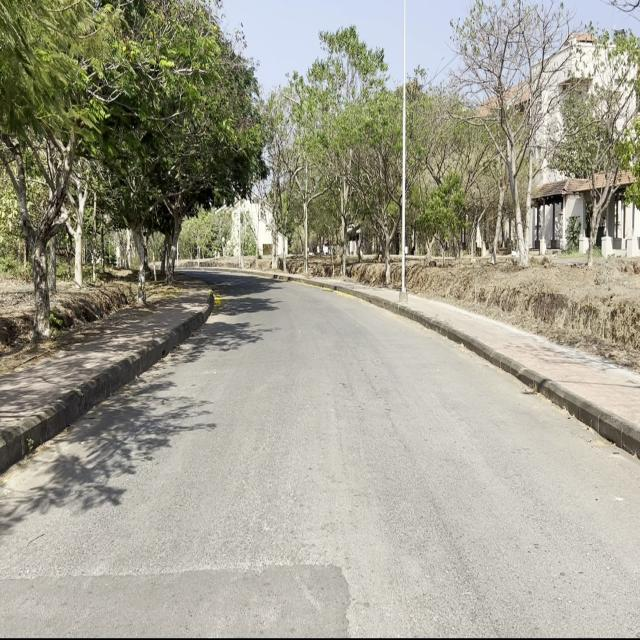Road: (2, 272, 637, 632)
